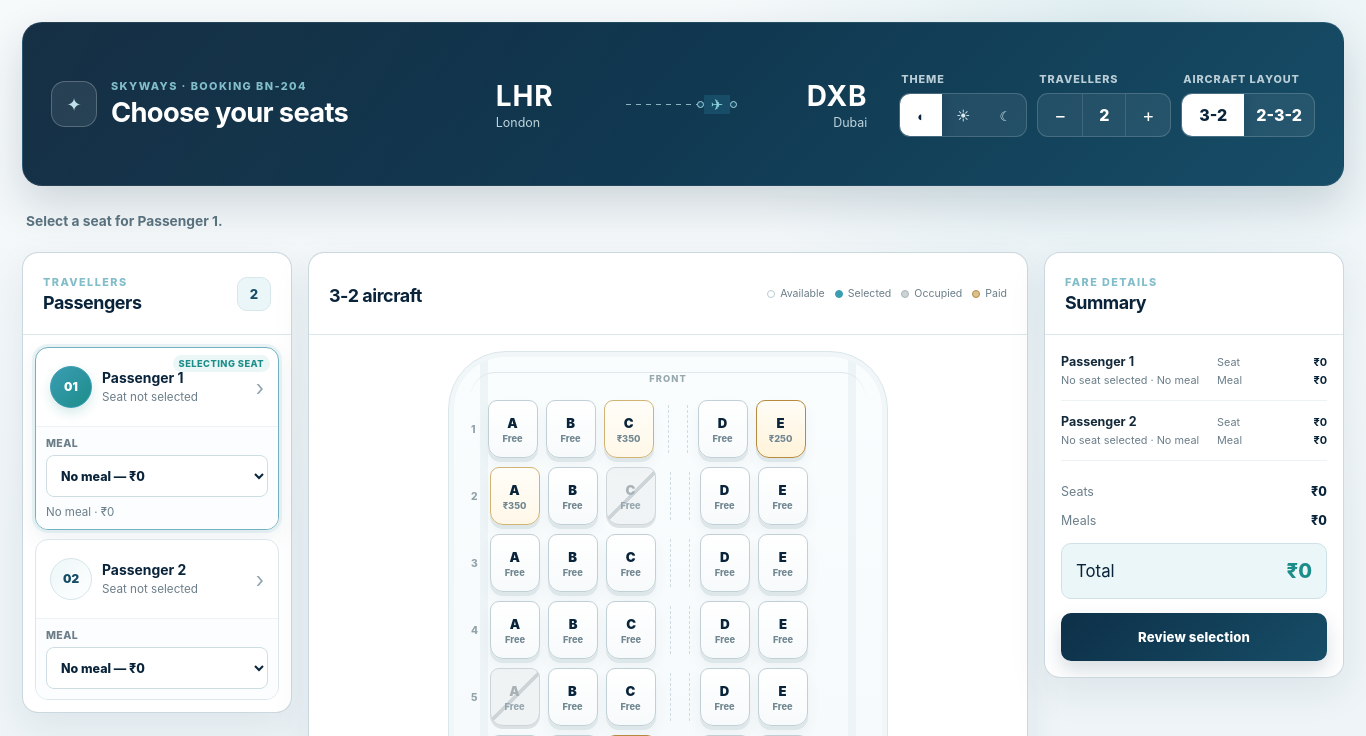
Test: App › switches to 2-3-2 and can confirm compatible layout changes
Click the button "2-3-2" at (1279, 114), box 1244,94 -> 1314,136
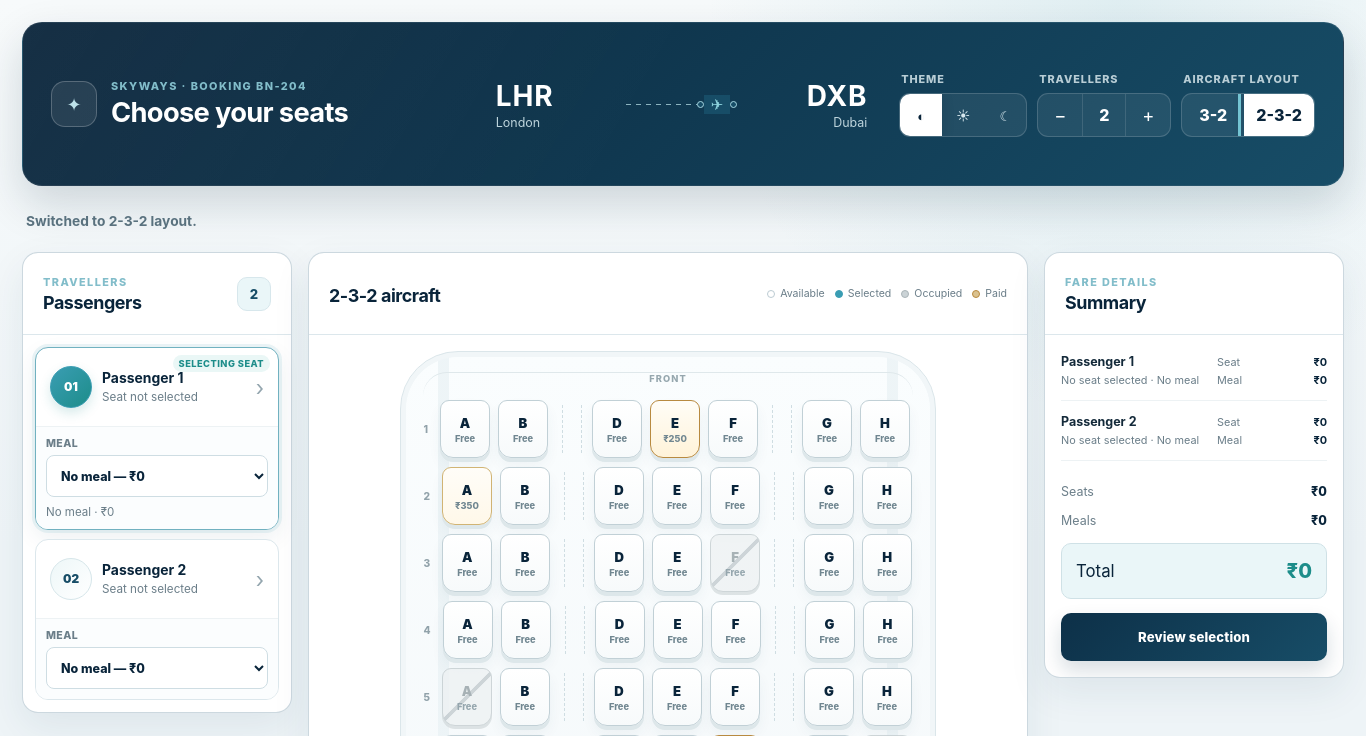
Expected: the heading "2-3-2 aircraft" is shown, 329,284 -> 440,306
